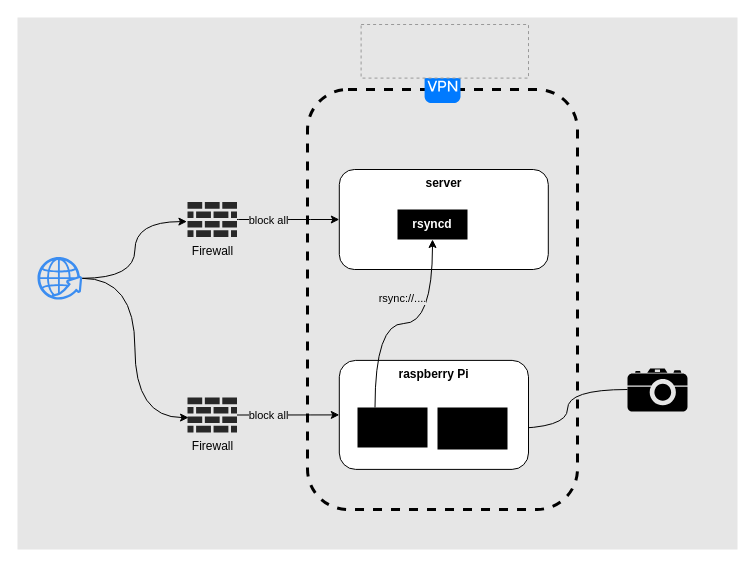
Image size: 754x566. Some labels were removed from this diagram. Grey dashed boxes stand in for pictures. The centre of each missing label's shape, as x and y in pixels:
gphoto2: [472,428]
rsync cron job: [392,427]
